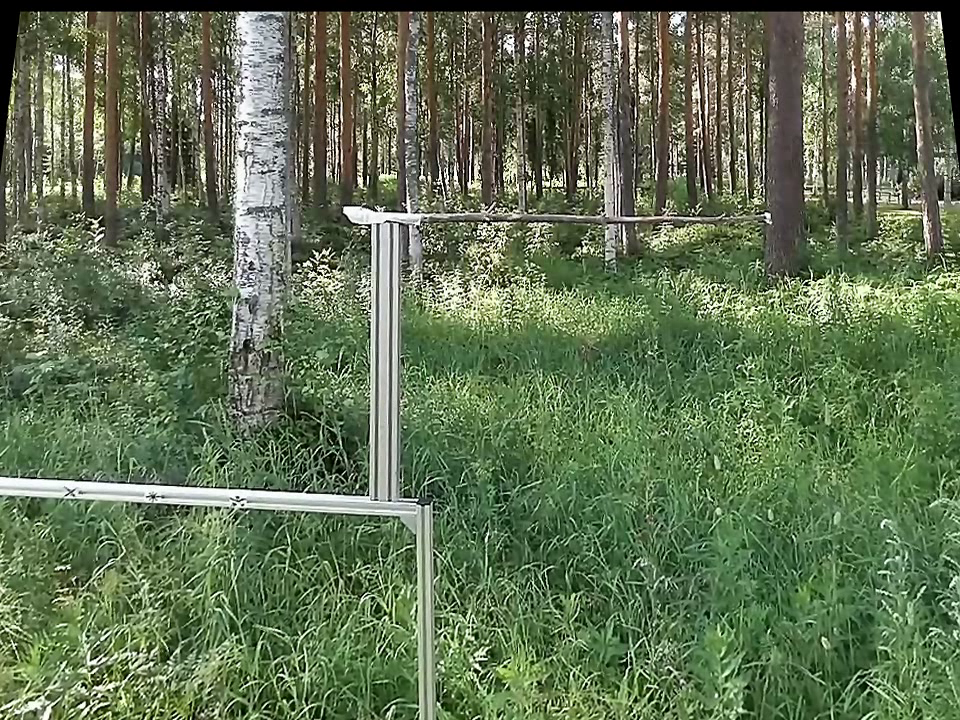aluminum_frame: (1, 473, 414, 517), (366, 223, 402, 503), (409, 495, 442, 718)
branch: (427, 196, 758, 236)
